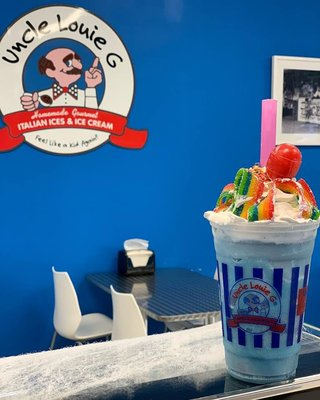pizza: (205, 213, 319, 385)
